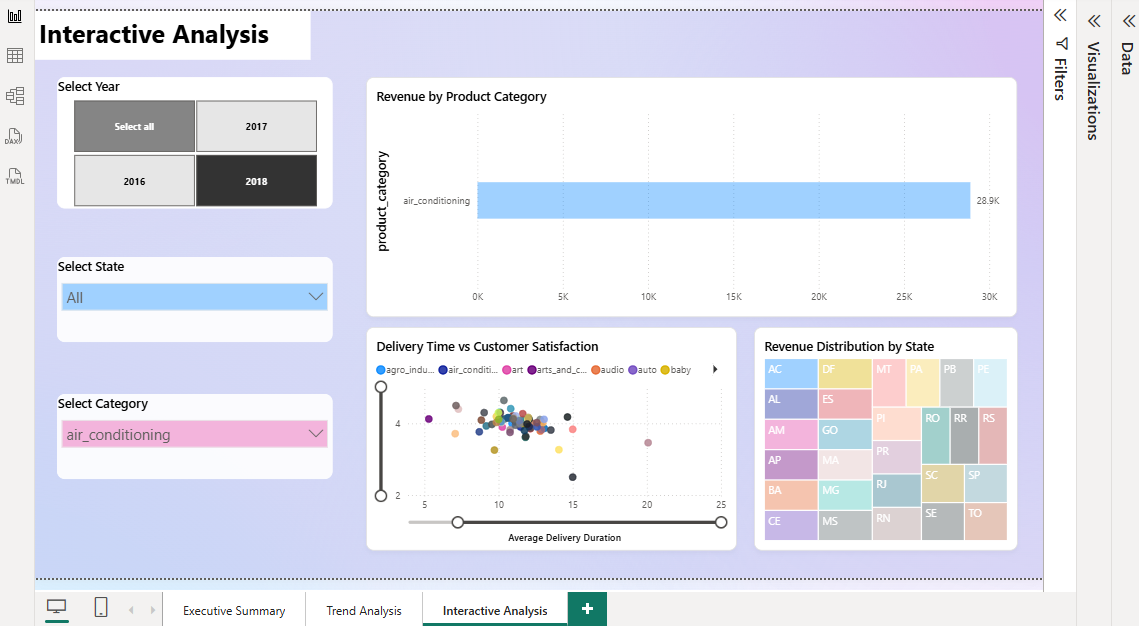

The page's visual inventory and layout, read from the dashboard file:
{"tool":"powerbi","page":{"name":"Interactive Analysis","canvas":[1280,720],"ordinal":2},"visuals":[{"type":"textbox","box":[0,0,349.9,61.7],"z":0},{"type":"slicer","title":"Select Year","fields":{"Values":["DM_Sales_Revenue.year"]},"box":[27.4,83.7,349.9,167.4],"z":1000},{"type":"slicer","title":"Select State","fields":{"Values":["DM_Customer_Experience.customer_state"]},"box":[27.4,312.9,349.9,108.4],"z":2000},{"type":"slicer","title":"Select Category","fields":{"Values":["DM_Sales_Revenue.product_category"]},"box":[27.4,485.8,349.9,108.4],"z":3000},{"type":"clusteredBarChart","title":"Revenue by Product Category","fields":{"Y":["DM_Sales_Revenue.Total Revenue"],"Category":["DM_Sales_Revenue.product_category"]},"box":[419.9,83.7,827.4,304.6],"z":4000},{"type":"scatterChart","title":"Delivery Time vs Customer Satisfaction","fields":{"X":["DM_Customer_Experience.Average Delivery Duration"],"Y":["DM_Customer_Experience.Average Review Score"],"Series":["DM_Customer_Experience.product_category"]},"box":[419.9,400.7,470.7,284],"z":5000},{"type":"treemap","title":"Revenue Distribution by State","fields":{"Group":["DM_Customer_Experience.customer_state"],"Values":["DM_Sales_Revenue.Total Revenue"]},"box":[912.5,400.7,334.8,284],"z":6000}]}

Visuals, with their boxes on the page's 1280x720 design canvas (x1, y1, x2, y2). These are canvas units, not pixel positions in the 1139x626 screenshot, which may show the page scaled, cropped or inside an application window:
textbox: box=[0, 0, 350, 62]
"Select Year" slicer: box=[27, 84, 377, 251]
"Select State" slicer: box=[27, 313, 377, 421]
"Select Category" slicer: box=[27, 486, 377, 594]
"Revenue by Product Category" clusteredBarChart: box=[420, 84, 1247, 388]
"Delivery Time vs Customer Satisfaction" scatterChart: box=[420, 401, 891, 685]
"Revenue Distribution by State" treemap: box=[912, 401, 1247, 685]
